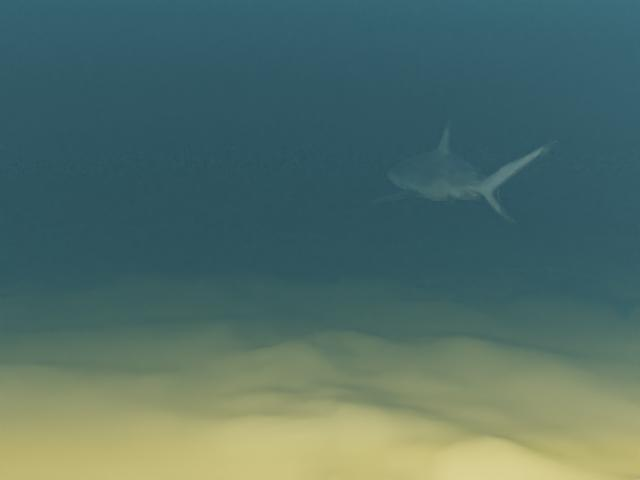Carribean Shark.001: (365, 121, 557, 222)
